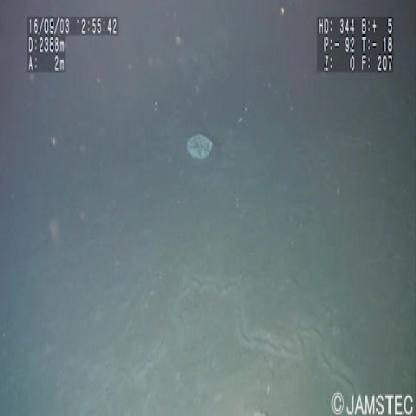Rác: (182, 126, 219, 164)
